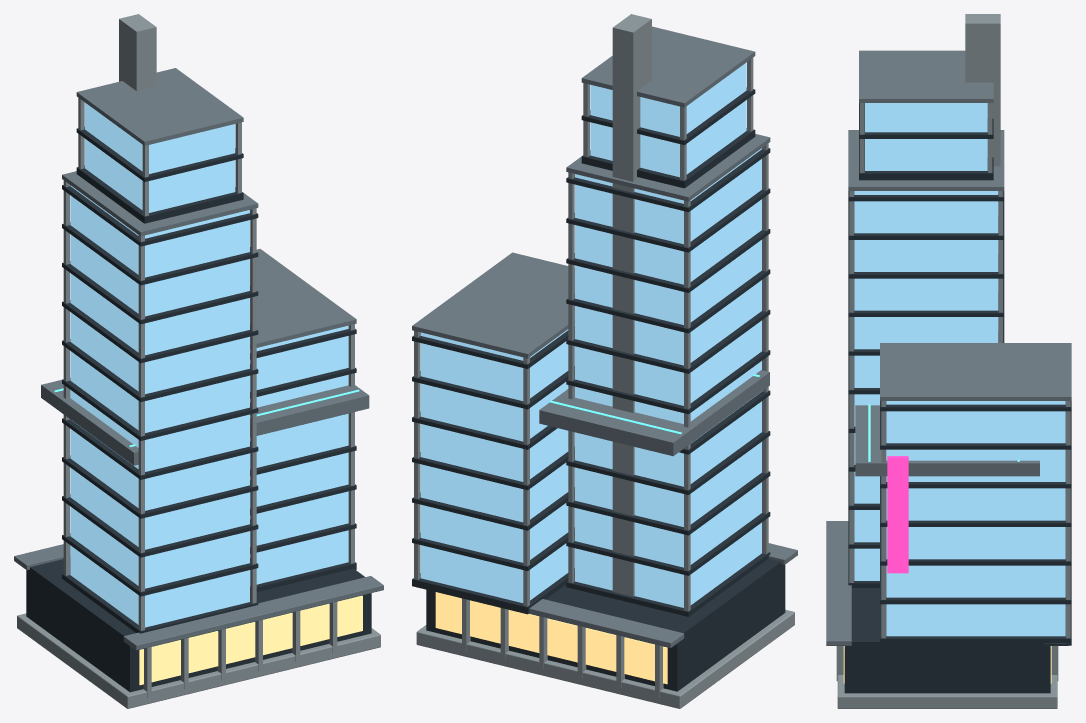
Rendered from vrx_city_exchange_b_LOD0.fbx.
3 views of the same model, side by side, from view 1: azimuth 30°, elevation 25°; view 2: azimuth 150°, elevation 25°; view 3: azimuth 270°, elevation 25° (orthographic). The views are drawn at different scales.
Parts seen in each view (by area): view 1: vrx_city_exchange_b_LOD0; view 2: vrx_city_exchange_b_LOD0; view 3: vrx_city_exchange_b_LOD0.
Boxes of the visible parts, left/top/right/bottom form: vrx_city_exchange_b_LOD0: left=14, top=14, right=383, bottom=708; vrx_city_exchange_b_LOD0: left=412, top=14, right=797, bottom=708; vrx_city_exchange_b_LOD0: left=826, top=14, right=1071, bottom=708.
Size of the model in its own units: 41 by 94.5 by 34.6.
